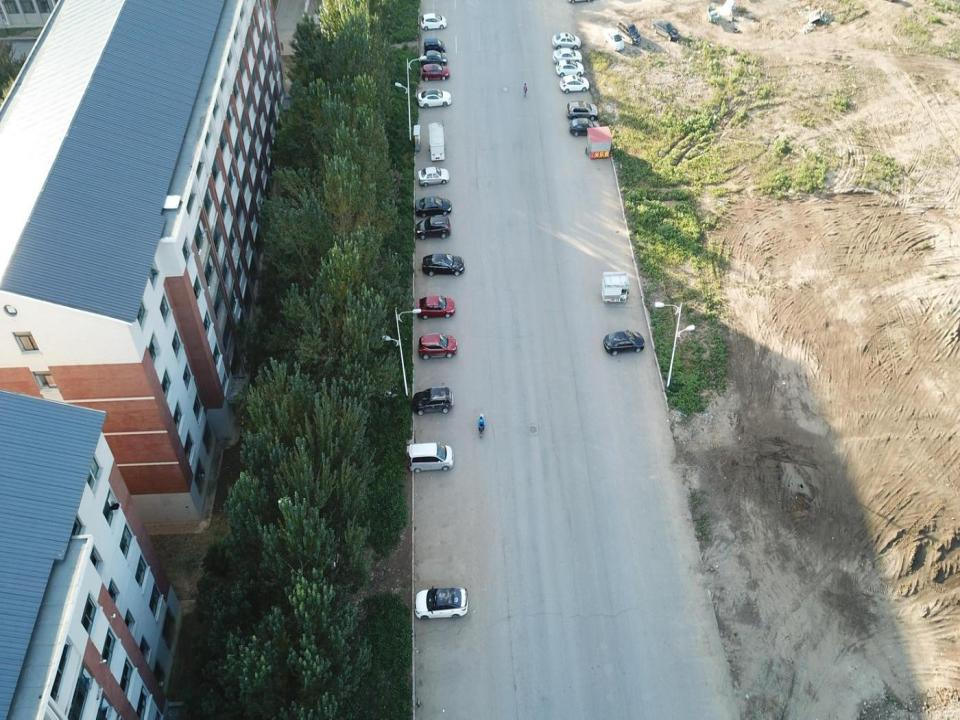car: (415, 586, 469, 620), (411, 386, 454, 413), (604, 330, 644, 355), (422, 253, 464, 276), (416, 336, 457, 359), (416, 296, 456, 319), (414, 195, 453, 216), (414, 218, 451, 240), (417, 90, 452, 110), (567, 100, 597, 122), (418, 166, 449, 187), (568, 117, 600, 137), (616, 19, 640, 45), (560, 74, 589, 94), (556, 58, 584, 78), (552, 47, 581, 66), (602, 27, 624, 52), (653, 19, 679, 40), (422, 63, 450, 81), (552, 33, 580, 51), (420, 13, 446, 32), (420, 50, 446, 69), (422, 36, 446, 54)
truck: (429, 120, 447, 162)
van: (407, 443, 453, 474)
